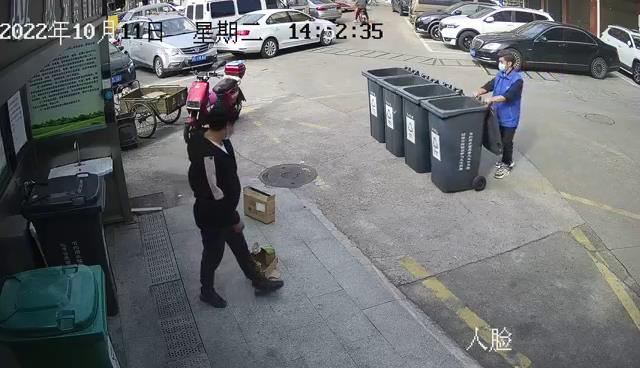person: (182, 101, 287, 314)
worker: (469, 50, 528, 182)
zhizhipin: (240, 181, 281, 228), (247, 239, 284, 284)
